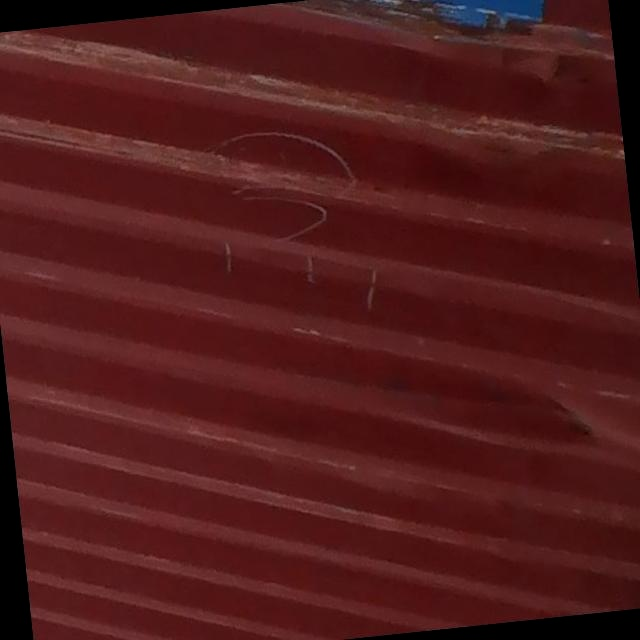Dent: (420, 328, 640, 541)
